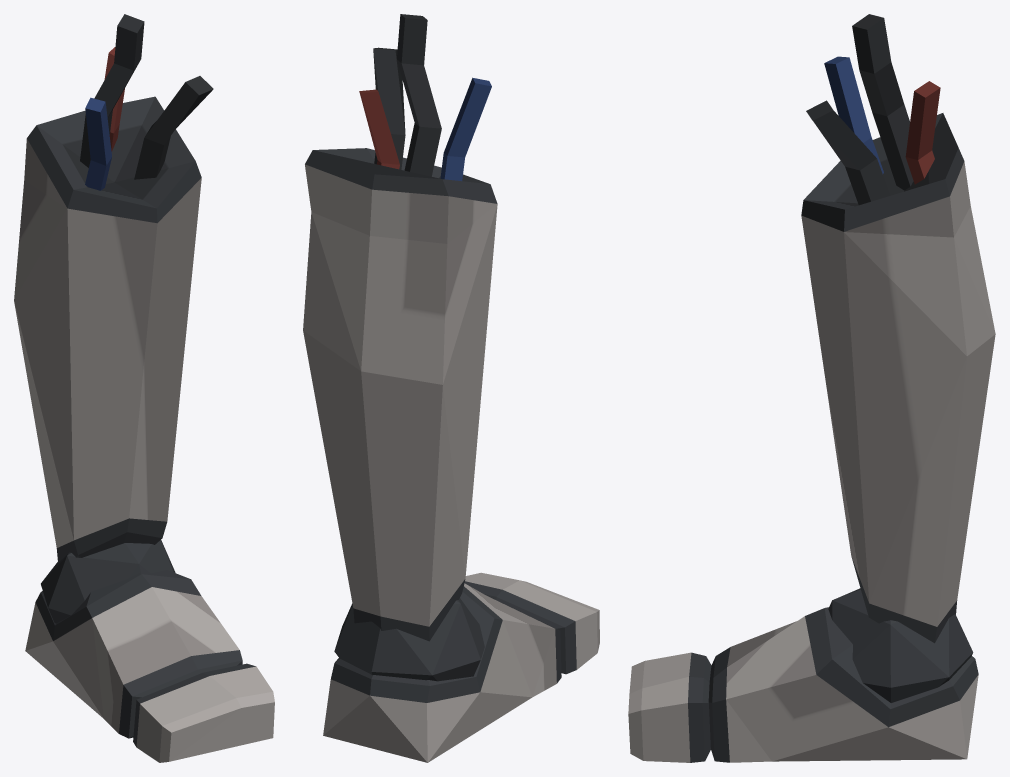
Rendered from SM_Prop_Robot_Part_05.fbx.
3 renders of one model, left to right at view 1: azimuth 30°, elevation 25°; view 2: azimuth 150°, elevation 25°; view 3: azimuth 270°, elevation 25°, orthographic. The views are drawn at different scales.
Visible parts, largest first — view 1: SM_Prop_Robot_Part_05; view 2: SM_Prop_Robot_Part_05; view 3: SM_Prop_Robot_Part_05.
Boxes of the visible parts, <box> form: SM_Prop_Robot_Part_05: <box>14,14,274,762</box>; SM_Prop_Robot_Part_05: <box>303,14,599,762</box>; SM_Prop_Robot_Part_05: <box>628,14,995,762</box>.
Size of the model in its own units: 11.56 by 52.29 by 24.09.
